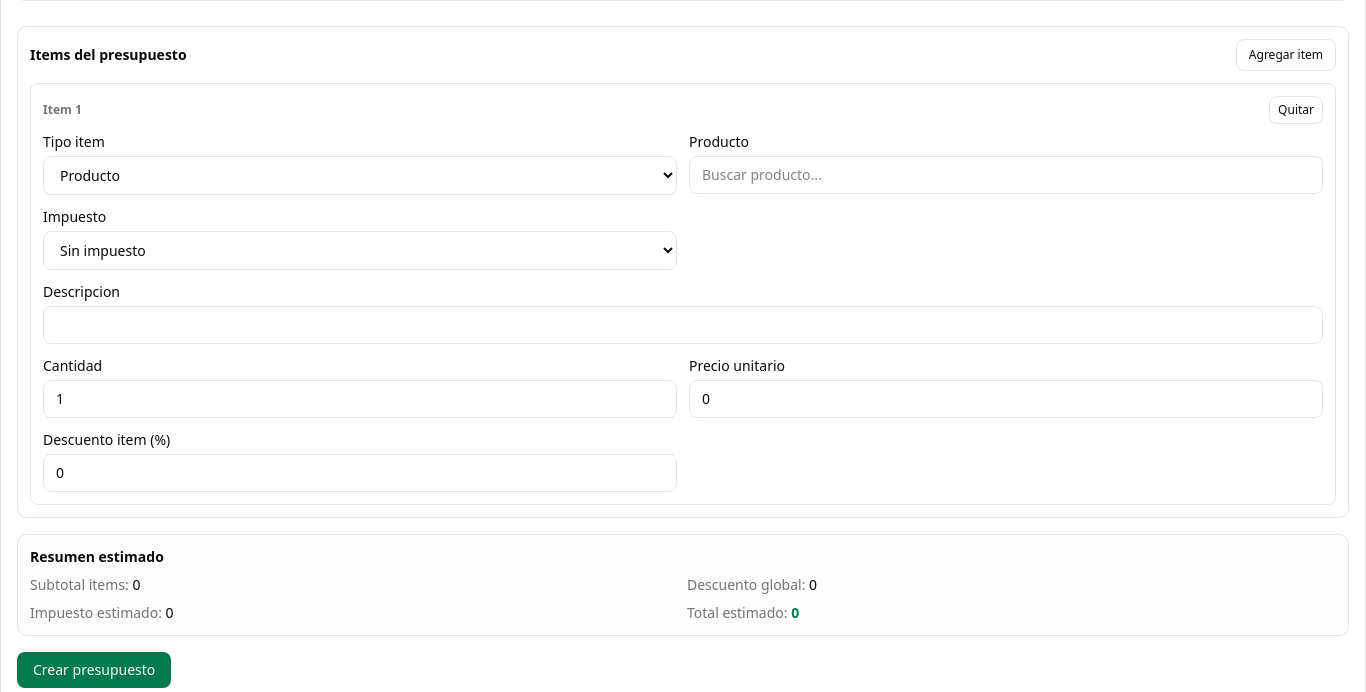
presupuestos/PresupuestosCreatePage › muestra errores inline de item cuando se envia sin producto
(page scrolled)
What coordinates should you click on to do the following:
click the button "Crear presupuesto"
I would click on:
 (94, 670)
Its box is [17,652,171,688].
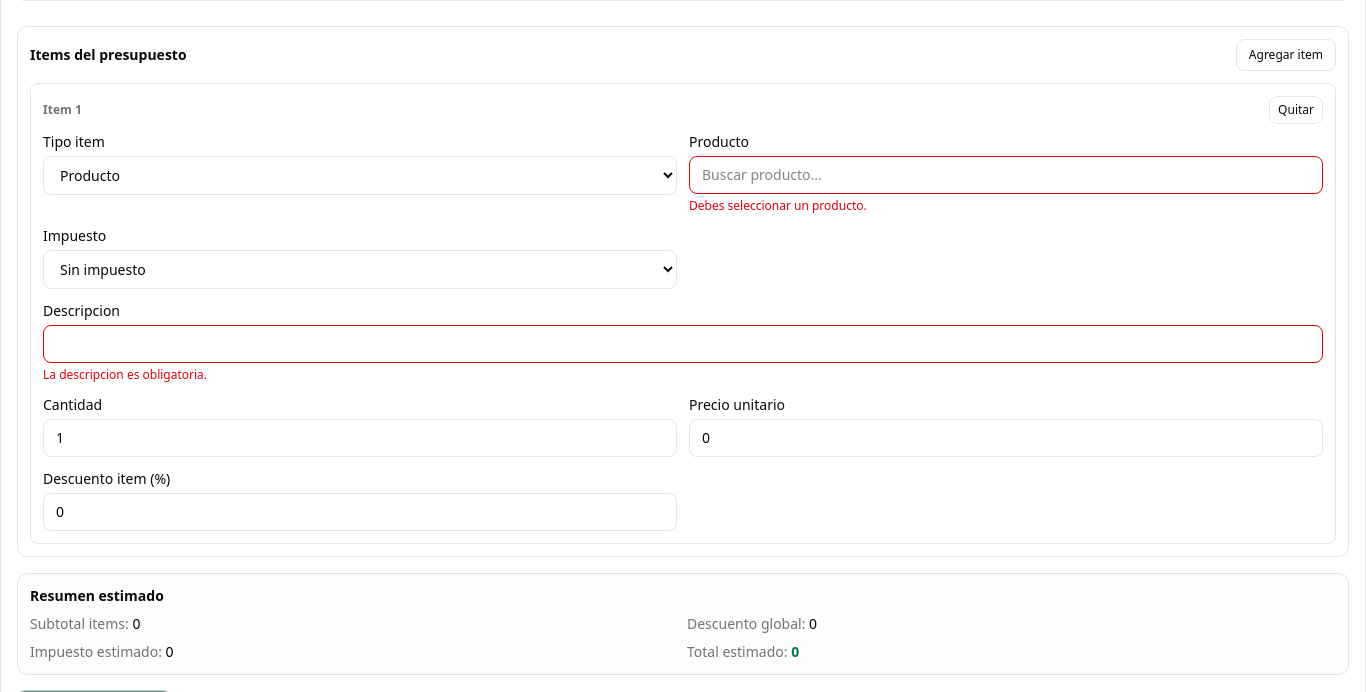
Now the text "Debes seleccionar un producto." is shown, box [689,197,867,214]
Now the text "La descripcion es obligatoria." is shown, box [43,366,207,383]
